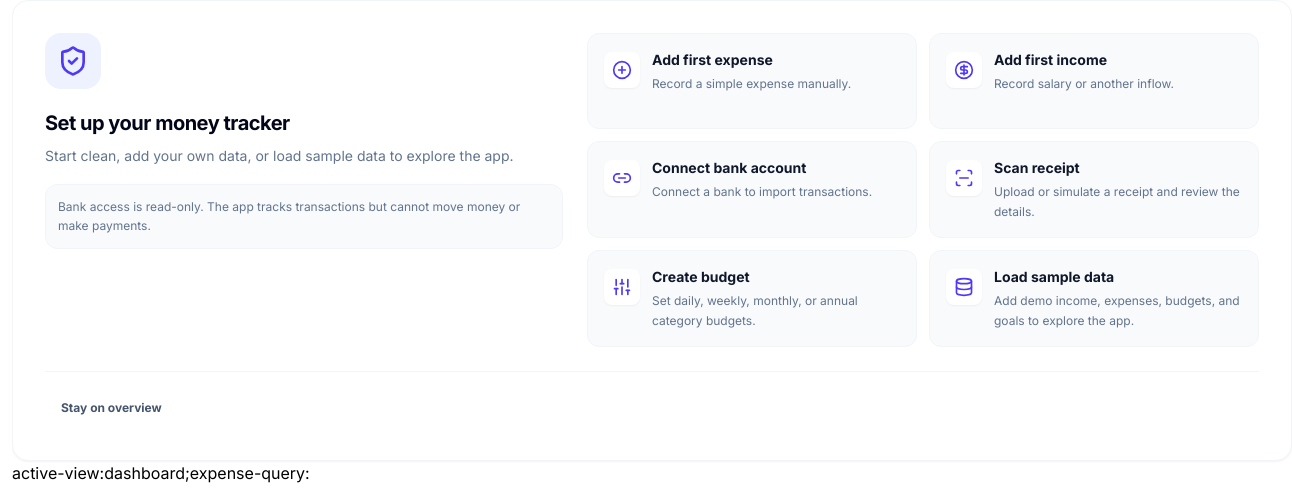
critical UI workflows › dashboard setup action Add first expense navigates to expenses
Click the button "Add first expense Record a simple expense manually.": [752, 81] box 587,33 -> 917,129
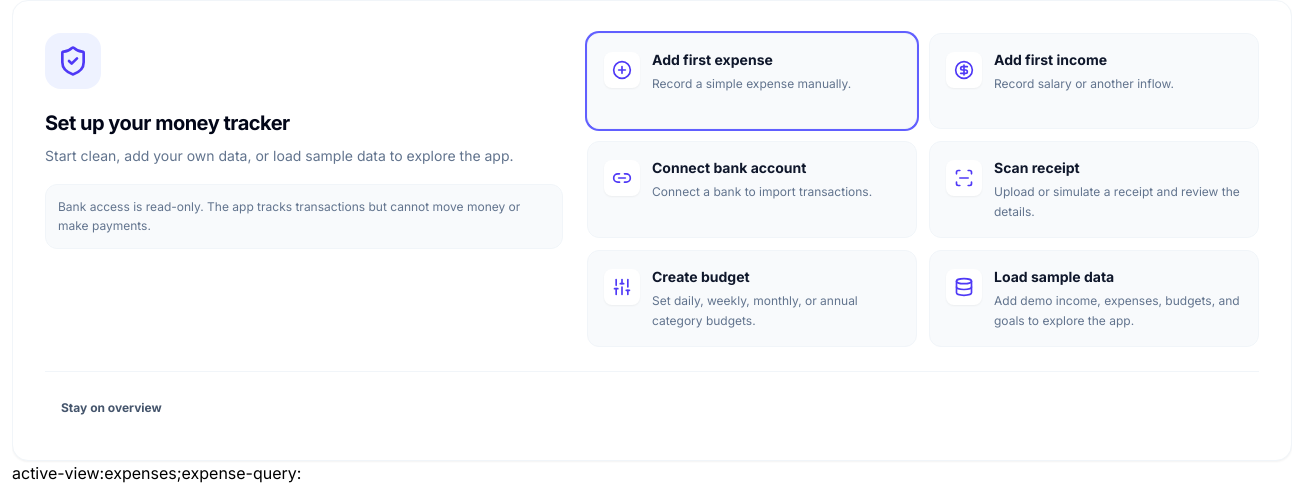
Check: the text named "navigation-state" shows "active-view:expenses", box 12,463 -> 301,483
